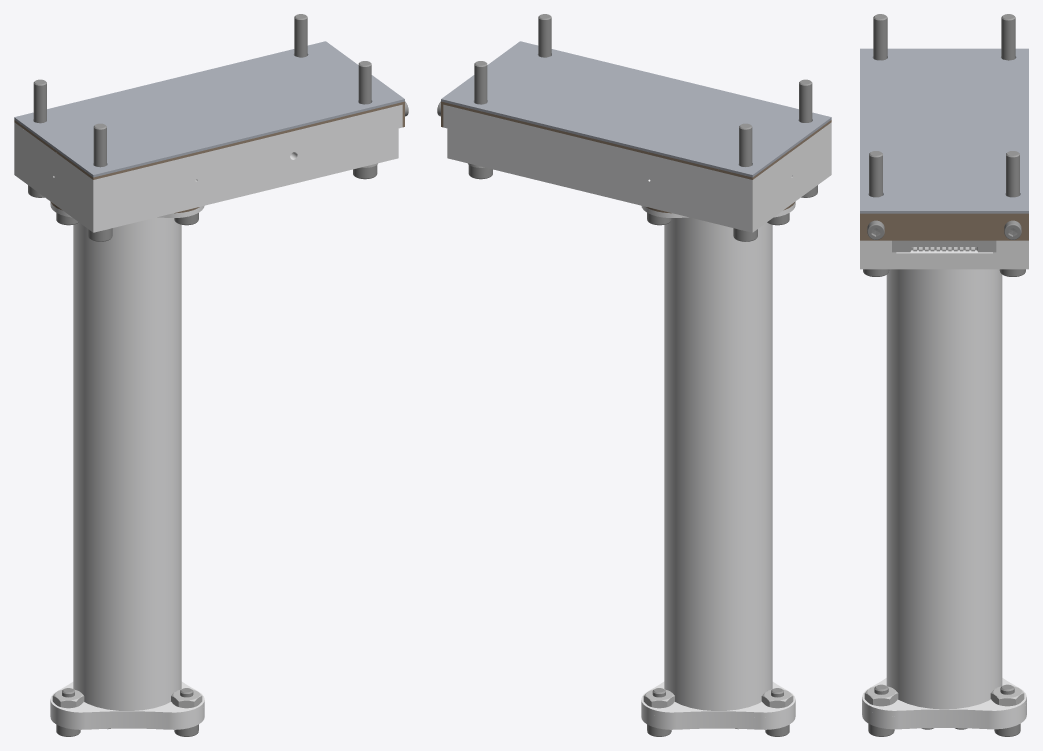
File: fpcm.glb
The picture shows the model from 3 angles, left to right: view 1: azimuth 30°, elevation 25°; view 2: azimuth 150°, elevation 25°; view 3: azimuth 270°, elevation 25°; orthographic projection. The views are drawn at different scales.
Visible parts, largest first — view 1: Callibration Tube:1, Thermal Pad:1, =>[0:1:1:7], Hexagon Socket Head Cap Screw ISO 4762 - M2.5 x 20 Steel 4.6 (×3), =>[0:1:1:22], Back Shielding:1; view 2: Callibration Tube:1, Thermal Pad:1, =>[0:1:1:7], Hexagon Socket Head Cap Screw ISO 4762 - M2.5 x 20 Steel 4.6 (×3), =>[0:1:1:22], Back Shielding:1; view 3: Callibration Tube:1, Thermal Pad:1, =>[0:1:1:7], Base shield plate:1, Hexagon Socket Head Cap Screw ISO 4762 - M2.5 x 20 Steel 4.6 (×4), =>[0:1:1:22], =>[0:1:1:6], Hexagon Socket Head Cap Screw DIN 912 - M2.5 x 0.45 x 6 Stee (×2), Back Shielding:1, Hexagon Socket Head Cap Screw DIN 912 - M1.6 x 0.35 x 3 Stee (×2), Hexagon Nut BS 4183 - M2.5 Steel 6 Plain:2, Hexagon Nut BS 4183 - M2.5 Steel 6 Plain:3.
Part boxes in pixels (x1,y1,x2,y2): Callibration Tube:1: [50, 201, 204, 717]; Thermal Pad:1: [14, 41, 404, 177]; =>[0:1:1:7]: [14, 104, 402, 232]; Hexagon Socket Head Cap Screw ISO 4762 - M2.5 x 20 Steel 4.6 (×3): [28, 61, 377, 241]; =>[0:1:1:22]: [50, 705, 204, 729]; Back Shielding:1: [14, 101, 404, 179]; Callibration Tube:1: [641, 201, 795, 717]; Thermal Pad:1: [441, 41, 831, 177]; =>[0:1:1:7]: [443, 104, 831, 232]; Hexagon Socket Head Cap Screw ISO 4762 - M2.5 x 20 Steel 4.6 (×3): [468, 61, 817, 241]; =>[0:1:1:22]: [641, 705, 795, 729]; Back Shielding:1: [441, 101, 831, 179]; Callibration Tube:1: [862, 269, 1026, 716]; Thermal Pad:1: [860, 48, 1028, 213]; =>[0:1:1:7]: [860, 240, 1028, 269]; Base shield plate:1: [860, 216, 1028, 240]; Hexagon Socket Head Cap Screw ISO 4762 - M2.5 x 20 Steel 4.6 (×4): [863, 14, 1025, 276]; =>[0:1:1:22]: [862, 702, 1026, 729]; =>[0:1:1:6]: [892, 240, 996, 252]; Hexagon Socket Head Cap Screw DIN 912 - M2.5 x 0.45 x 6 Stee (×2): [868, 684, 1020, 736]; Back Shielding:1: [860, 213, 1028, 216]; Hexagon Socket Head Cap Screw DIN 912 - M1.6 x 0.35 x 3 Stee (×2): [867, 220, 1021, 239]; Hexagon Nut BS 4183 - M2.5 Steel 6 Plain:2: [864, 686, 898, 706]; Hexagon Nut BS 4183 - M2.5 Steel 6 Plain:3: [990, 686, 1024, 706].
Size of the model in its own units: 0.0676 by 0.127 by 0.029.
